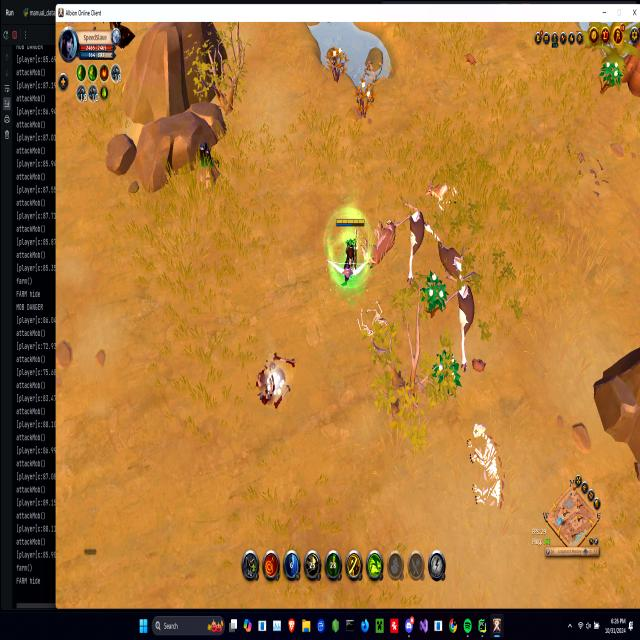hide: (431, 344, 462, 396), (421, 270, 448, 315), (325, 41, 349, 86), (354, 75, 374, 119), (600, 58, 620, 92)
mob: (446, 275, 477, 369), (423, 220, 467, 286), (397, 195, 428, 286), (365, 215, 398, 272), (425, 177, 461, 214)
player: (193, 138, 219, 190)
red: (334, 212, 365, 288)
stone: (263, 368, 288, 403)
